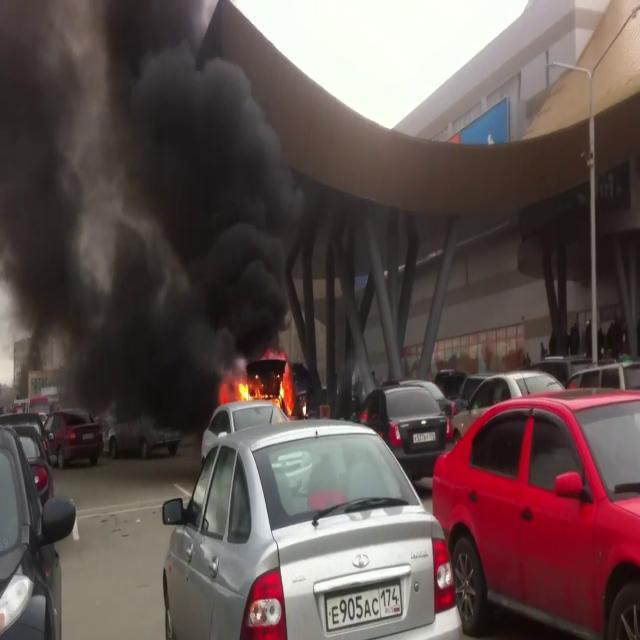Fire: (226, 358, 296, 416)
Smoke: (0, 1, 311, 398)
